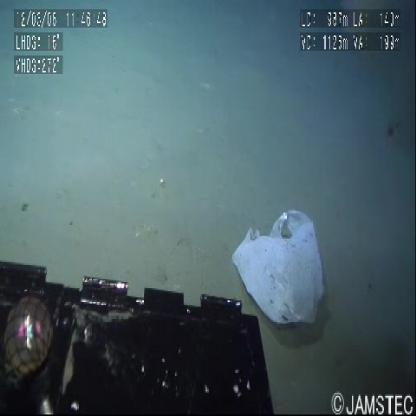Rác: (219, 191, 331, 339)
